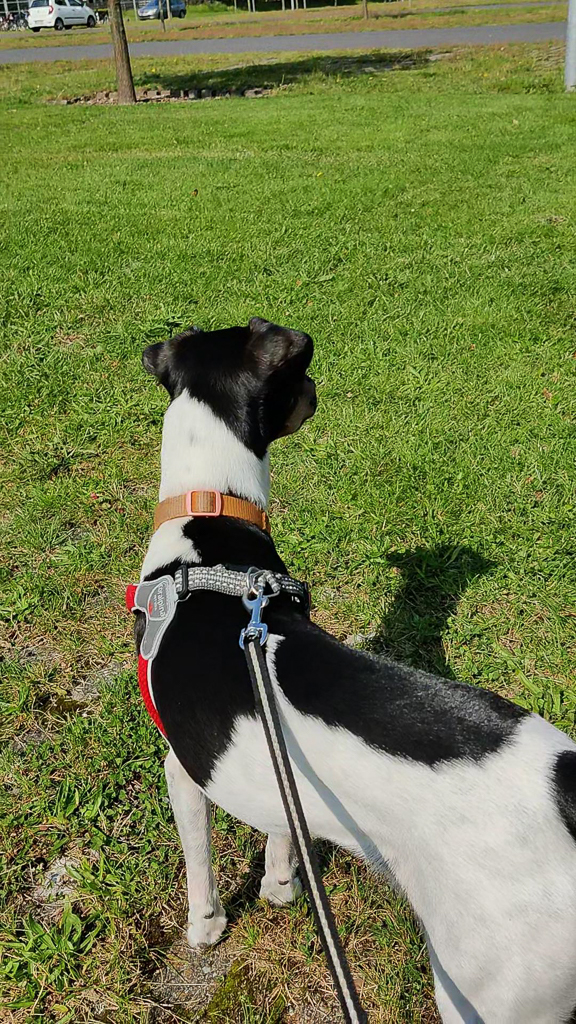Dog: (91, 284, 576, 1024)
